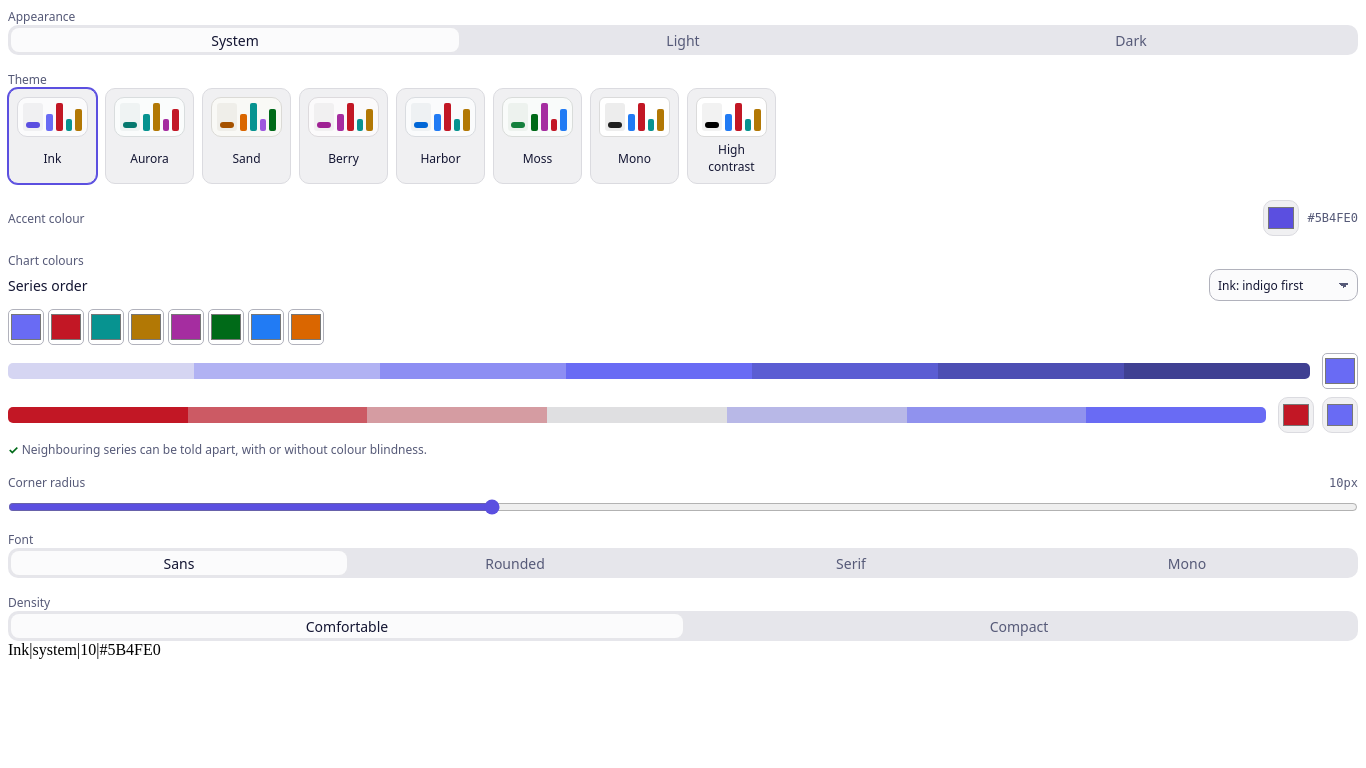
Test: ThemePicker › changes the colours charts use and checks them as they change
This screenshot has width=1366, height=768.
Expected: the list item "Neighbouring series can be told apart" is shown, [19,441,427,458]
Select "Berry: magenta first" in the dropdown labelled "Series order" at [1284, 285], box [1209,269,1358,301]
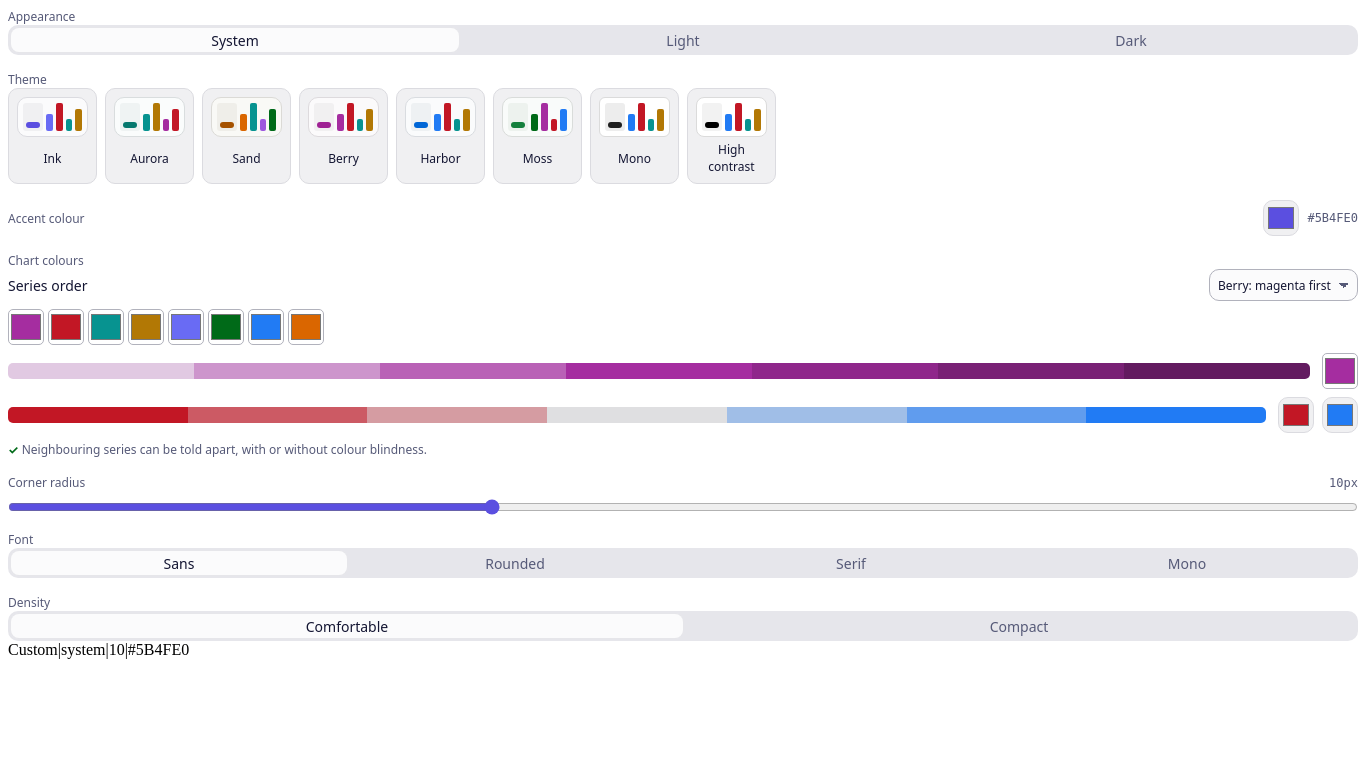
# A colour set by hand next to a look-alike is flagged.
Type "#c149bb" into the colour field named "Series 2" at [66, 327], box [48,309,84,345]
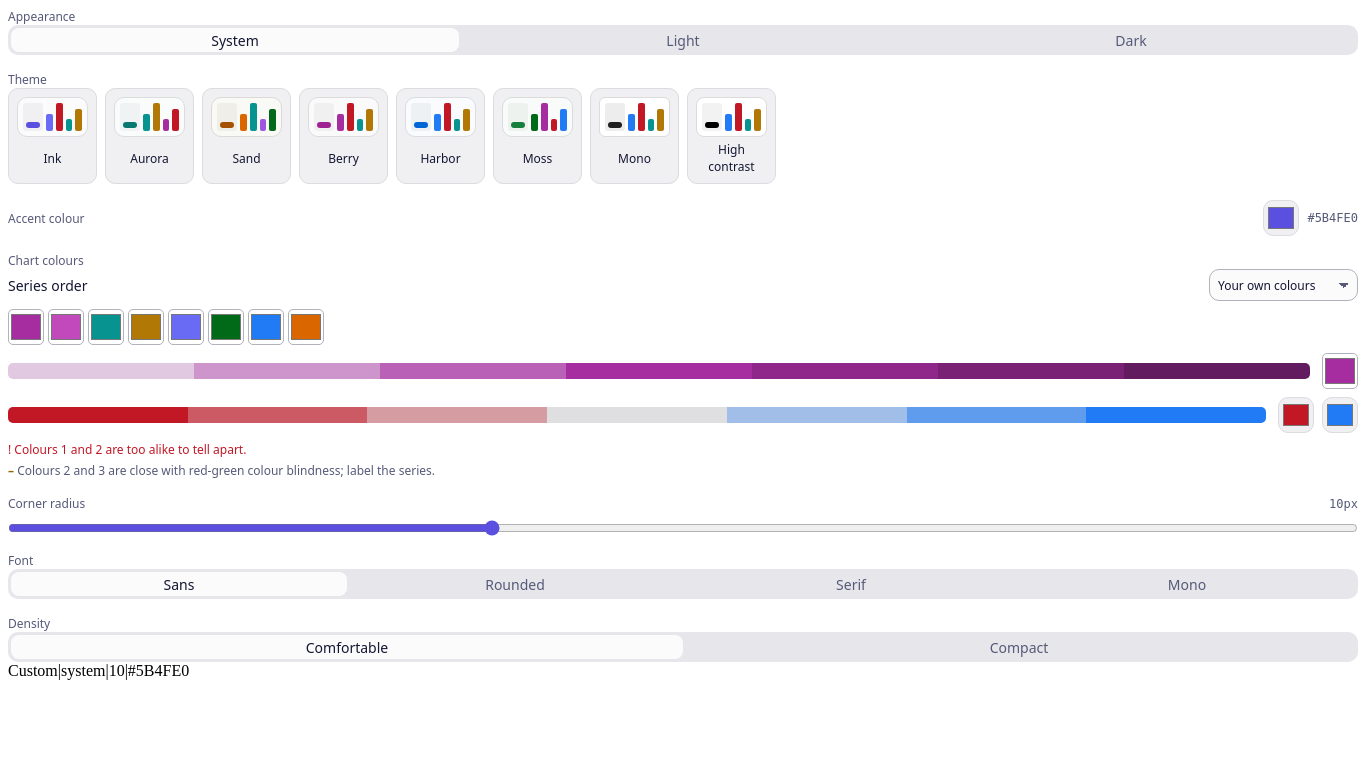
Expected: the list item "Colours 1 and 2 are too alike to tell apart." is shown, [14,441,246,458]
